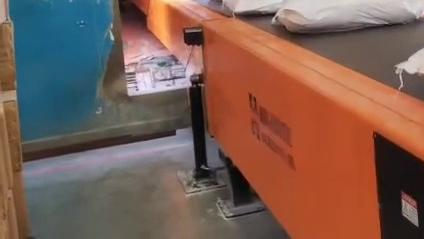box: (397, 47, 424, 80), (224, 0, 283, 13)
